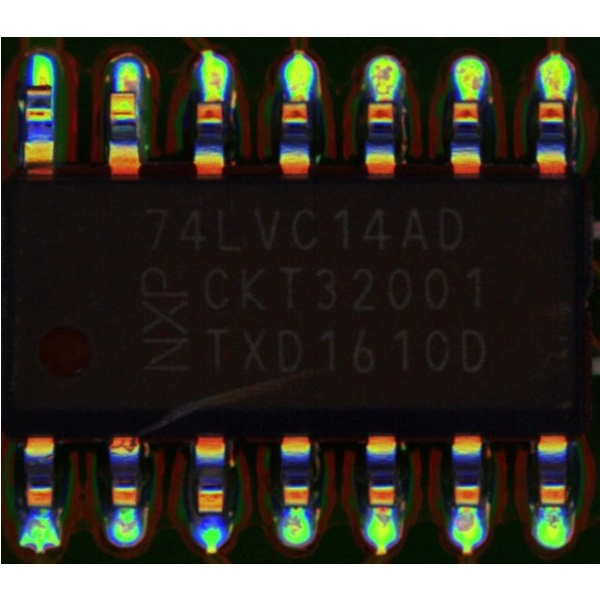Bad_podu: (372, 494, 391, 516), (32, 73, 50, 94), (116, 81, 135, 99)
